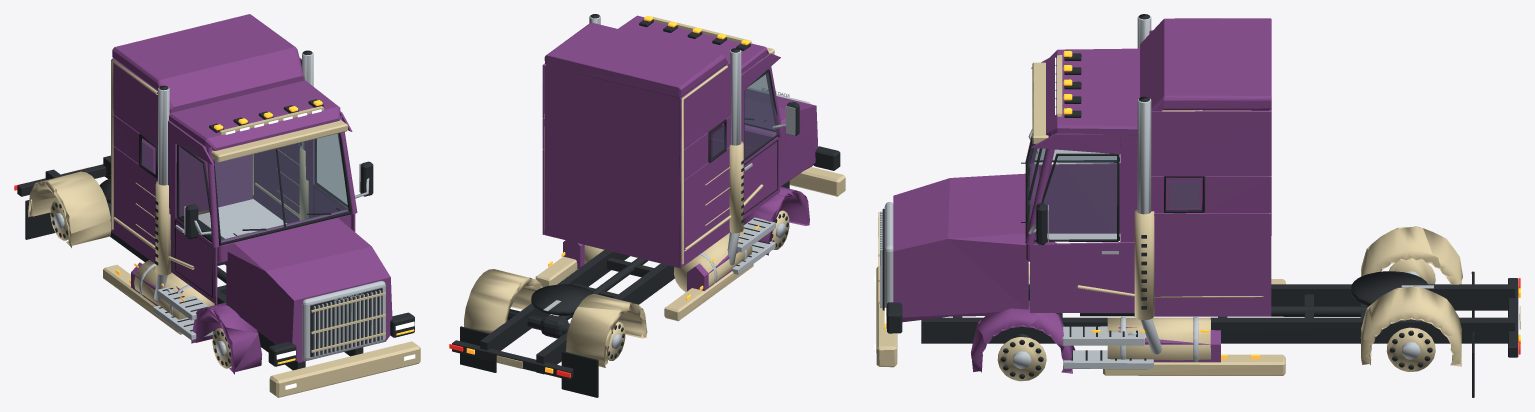
Rendered from RoadPalace_LOD2.fbx.
3 renders of one model, left to right at view 1: azimuth 30°, elevation 25°; view 2: azimuth 150°, elevation 25°; view 3: azimuth 270°, elevation 25°, orthographic. The views are drawn at different scales.
Parts seen in each view (by area): view 1: CabExterior__TT_Paint_Primary.001, Chassis__TT_Paint_Primary.001, Chassis__TT_MetalTrim.001, CabExterior__TT_Glass.001, Chassis__TT_Chrome.001, Chassis__TT_Chassis.001, CabExterior__TT_MetalTrim.001, CabExterior__TT_Rubber.001, CabExterior__TT_Chrome.001, CabExterior__TT_Chassis.001, Chassis__TT_Rubber.001, Wheel_FR__TT_MetalTrim.001 (+1 smaller); view 2: CabExterior__TT_Paint_Primary.001, Chassis__TT_MetalTrim.001, Chassis__TT_Chassis.001, Chassis__TT_Paint_Primary.001, CabExterior__TT_Glass.001, Chassis__TT_Rubber.001, Chassis__TT_Chrome.001, CabExterior__TT_Chrome.001, CabExterior__TT_Rubber.001, CabExterior__TT_MetalTrim.001, CabExterior__TT_Chassis.001; view 3: CabExterior__TT_Paint_Primary.001, Chassis__TT_Paint_Primary.001, Chassis__TT_MetalTrim.001, Chassis__TT_Chassis.001, CabExterior__TT_Glass.001, Chassis__TT_Chrome.001, CabExterior__TT_Chrome.001, CabExterior__TT_Rubber.001, Wheel_RL__TT_MetalTrim.001, Wheel_FL__TT_MetalTrim.001, CabExterior__TT_MetalTrim.001, CabExterior__TT_Chassis.001 (+1 smaller).
Boxes of the visible parts, bbox=[...] form: CabExterior__TT_Paint_Primary.001: bbox=[112, 14, 357, 304]; Chassis__TT_Paint_Primary.001: bbox=[131, 218, 392, 374]; Chassis__TT_MetalTrim.001: bbox=[28, 106, 420, 397]; CabExterior__TT_Glass.001: bbox=[141, 133, 348, 242]; Chassis__TT_Chrome.001: bbox=[110, 52, 385, 360]; Chassis__TT_Chassis.001: bbox=[17, 50, 414, 370]; CabExterior__TT_MetalTrim.001: bbox=[111, 59, 347, 238]; CabExterior__TT_Rubber.001: bbox=[139, 133, 352, 331]; CabExterior__TT_Chrome.001: bbox=[153, 178, 369, 340]; CabExterior__TT_Chassis.001: bbox=[185, 99, 373, 239]; Chassis__TT_Rubber.001: bbox=[25, 200, 339, 239]; Wheel_FR__TT_MetalTrim.001: bbox=[212, 328, 231, 368]; CabExterior__TT_Paint_Primary.001: bbox=[542, 15, 783, 268]; Chassis__TT_MetalTrim.001: bbox=[464, 17, 845, 368]; Chassis__TT_Chassis.001: bbox=[452, 14, 840, 379]; Chassis__TT_Paint_Primary.001: bbox=[563, 89, 818, 291]; CabExterior__TT_Glass.001: bbox=[712, 72, 777, 157]; Chassis__TT_Rubber.001: bbox=[460, 119, 766, 397]; Chassis__TT_Chrome.001: bbox=[543, 15, 810, 311]; CabExterior__TT_Chrome.001: bbox=[732, 123, 785, 274]; CabExterior__TT_Rubber.001: bbox=[708, 69, 778, 265]; CabExterior__TT_MetalTrim.001: bbox=[544, 47, 774, 264]; CabExterior__TT_Chassis.001: bbox=[639, 19, 799, 135]; CabExterior__TT_Paint_Primary.001: bbox=[1025, 18, 1271, 316]; Chassis__TT_Paint_Primary.001: bbox=[893, 173, 1220, 373]; Chassis__TT_MetalTrim.001: bbox=[876, 55, 1520, 375]; Chassis__TT_Chassis.001: bbox=[882, 14, 1518, 357]; CabExterior__TT_Glass.001: bbox=[1029, 144, 1199, 239]; Chassis__TT_Chrome.001: bbox=[878, 16, 1433, 362]; CabExterior__TT_Chrome.001: bbox=[1028, 129, 1153, 369]; CabExterior__TT_Rubber.001: bbox=[1025, 110, 1204, 360]; Wheel_RL__TT_MetalTrim.001: bbox=[1386, 327, 1435, 371]; Wheel_FL__TT_MetalTrim.001: bbox=[997, 337, 1046, 381]; CabExterior__TT_MetalTrim.001: bbox=[1032, 62, 1269, 213]; CabExterior__TT_Chassis.001: bbox=[1028, 53, 1081, 244].
Bounding box in the file's own units: 311 × 407 × 793.
